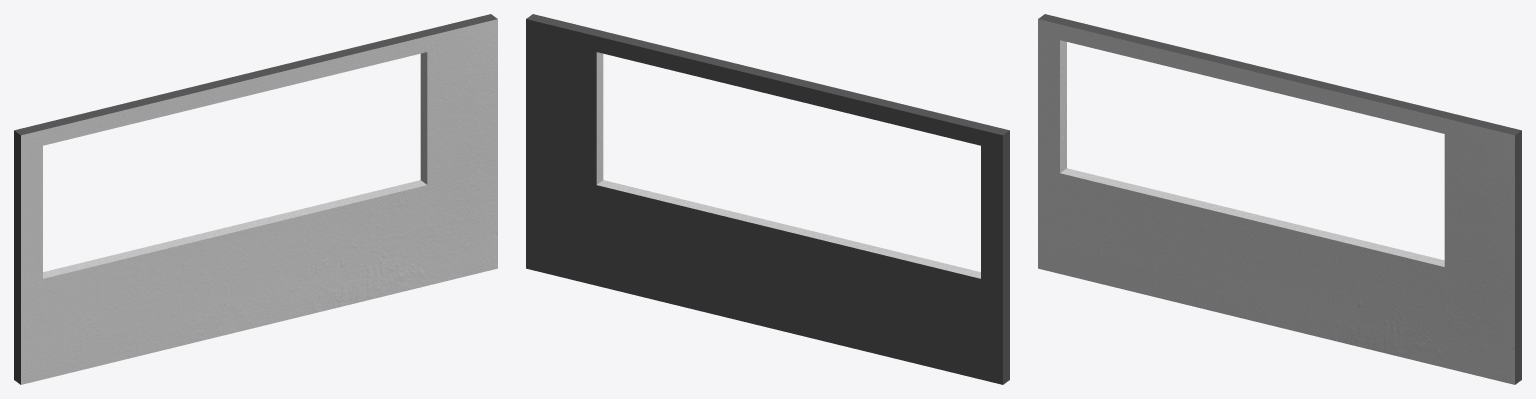
The model's file is Wall_5.fbx.
3 renders of one model, left to right at view 1: azimuth 30°, elevation 25°; view 2: azimuth 150°, elevation 25°; view 3: azimuth 330°, elevation 25°, orthographic.
Visible parts, largest first — view 1: Wall_5; view 2: Wall_5; view 3: Wall_5.
Part boxes in pixels (<box>): Wall_5: <box>14,14,497,384</box>; Wall_5: <box>526,14,1009,384</box>; Wall_5: <box>1038,14,1521,384</box>.
Bounding box in the file's own units: 400 × 200 × 10.
